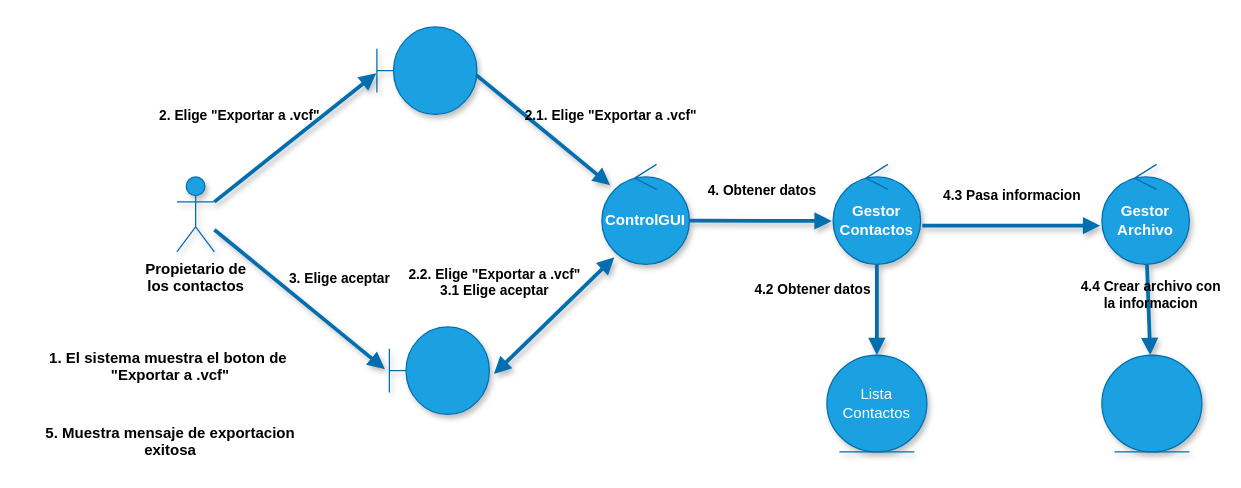
The diagram is 1241 pixels wide and 488 high, and some of its shapes have lost their labels. The shapes that lost their labels are listed below. From the top down, each one's centre as x and y in pixels, then its label:
At point 427,72: "VPrincipal".
At point 440,372: "VExportar".
At point 1152,405: "Archivo".
